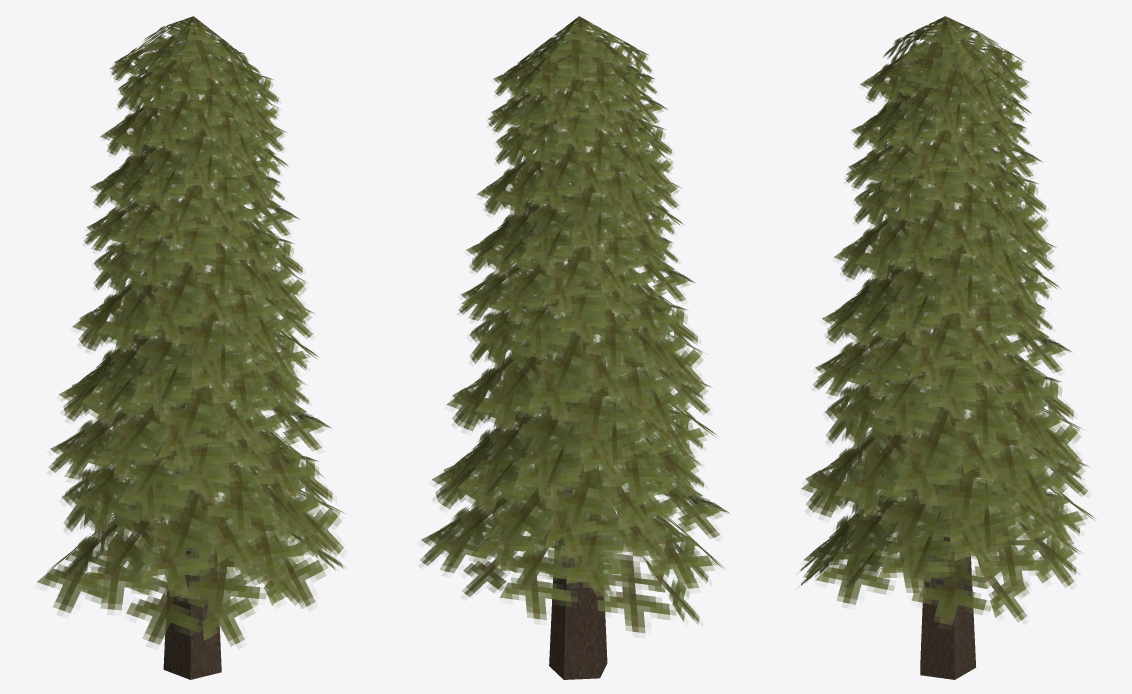
The model's file is Tree.glb.
3 renders of one model, left to right at view 1: azimuth 30°, elevation 25°; view 2: azimuth 150°, elevation 25°; view 3: azimuth 270°, elevation 25°, orthographic.
Visible parts, largest first — view 1: Tree; view 2: Tree; view 3: Tree.
Boxes of the visible parts, box(x1,y1,x2,y2) form: Tree: box(37, 16, 346, 679); Tree: box(419, 16, 729, 679); Tree: box(798, 16, 1096, 679).
Bounding box in the file's own units: 5.71 × 11.71 × 5.48.
2 materials, 2 textured.
